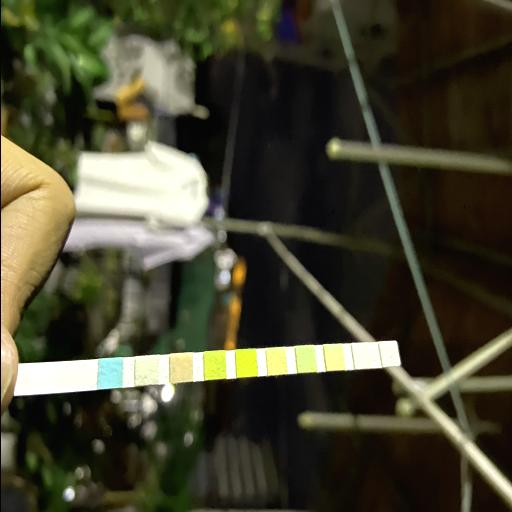Bilirubin: (135, 358, 157, 384)
Blood: (236, 350, 256, 376)
Glucose: (98, 360, 120, 388)
Ketone: (170, 354, 192, 382)
Leukocytes: (381, 343, 396, 365)
Nitrite: (354, 344, 368, 366)
Protein: (297, 346, 314, 372)
SpGravity: (204, 352, 224, 378)
Urobilinogen: (325, 346, 341, 370)
pH: (266, 349, 284, 373)
strip: (19, 340, 399, 396)
